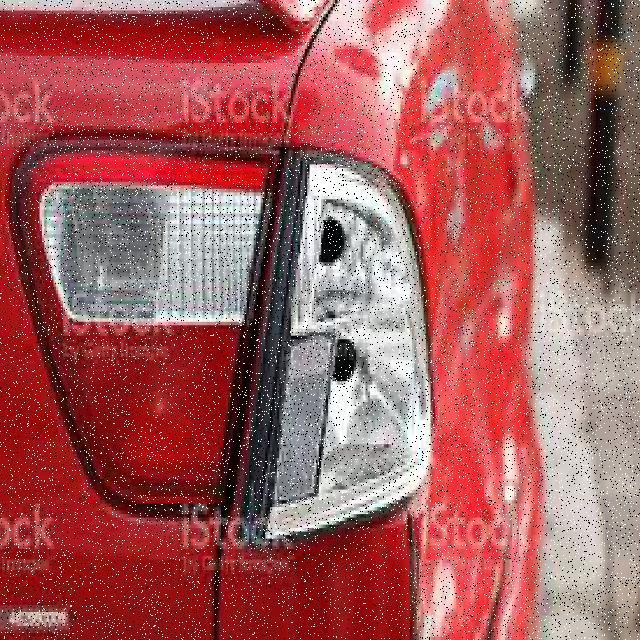Taillight-Damage: (230, 122, 444, 577)
